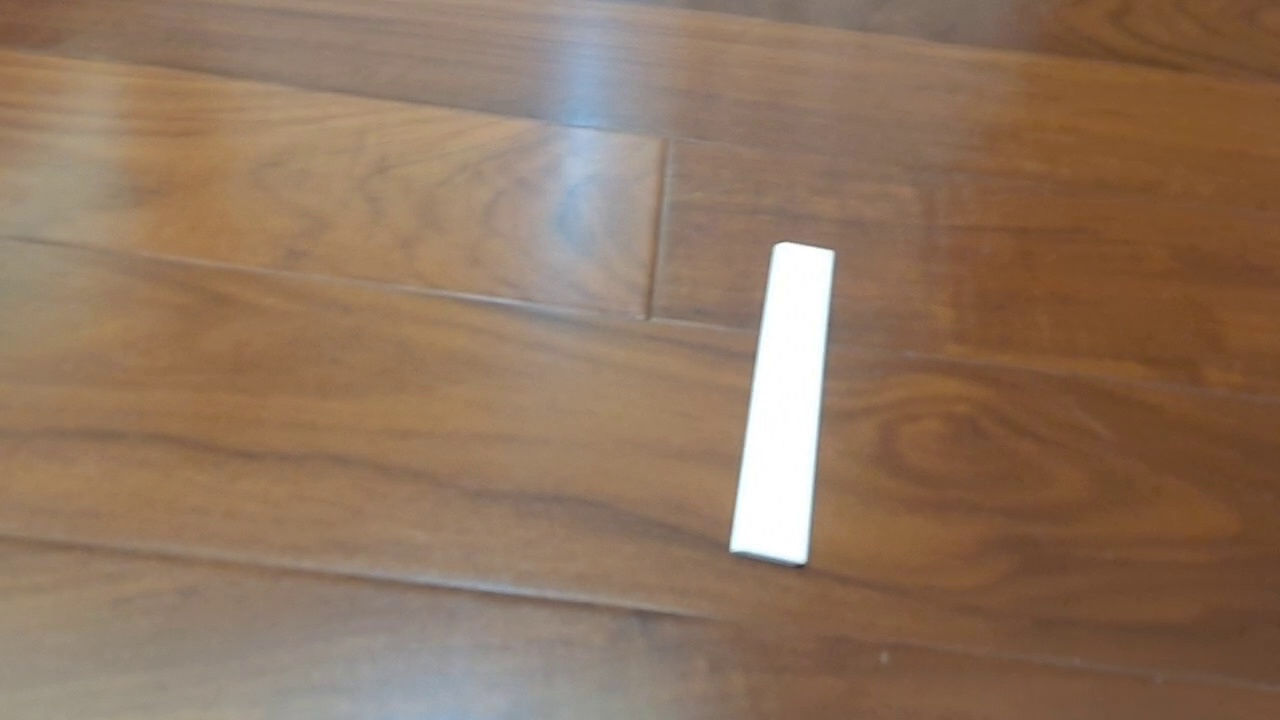ruler: (728, 239, 836, 569)
